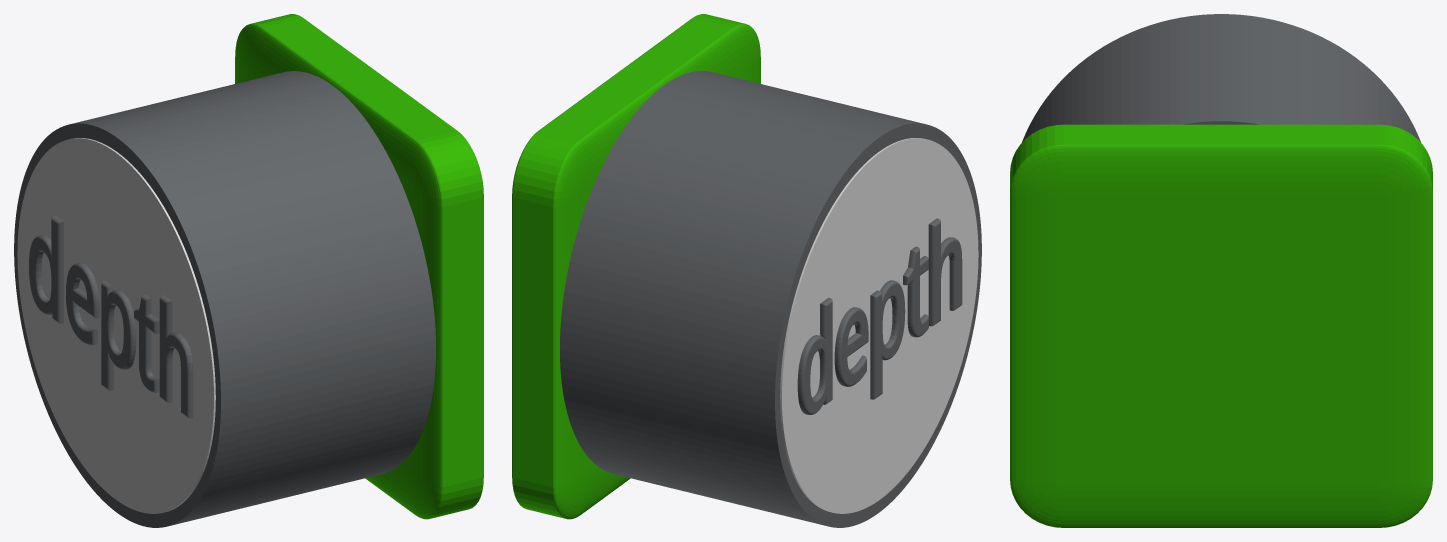
File: depth sensor.glb
3 views of the same model, side by side, from view 1: azimuth 30°, elevation 25°; view 2: azimuth 150°, elevation 25°; view 3: azimuth 270°, elevation 25° (orthographic). The views are drawn at different scales.
Parts seen in each view (by area): view 1: Mesh_Mesh_head_geo.001_lambert2SG.001; view 2: Mesh_Mesh_head_geo.001_lambert2SG.001; view 3: Mesh_Mesh_head_geo.001_lambert2SG.001.
Part boxes in pixels (x1,y1,x2,y2): Mesh_Mesh_head_geo.001_lambert2SG.001: (14, 14, 483, 527); Mesh_Mesh_head_geo.001_lambert2SG.001: (512, 14, 981, 527); Mesh_Mesh_head_geo.001_lambert2SG.001: (1010, 14, 1432, 527).
Size of the model in its own units: 0.0154 by 0.02 by 0.02.
